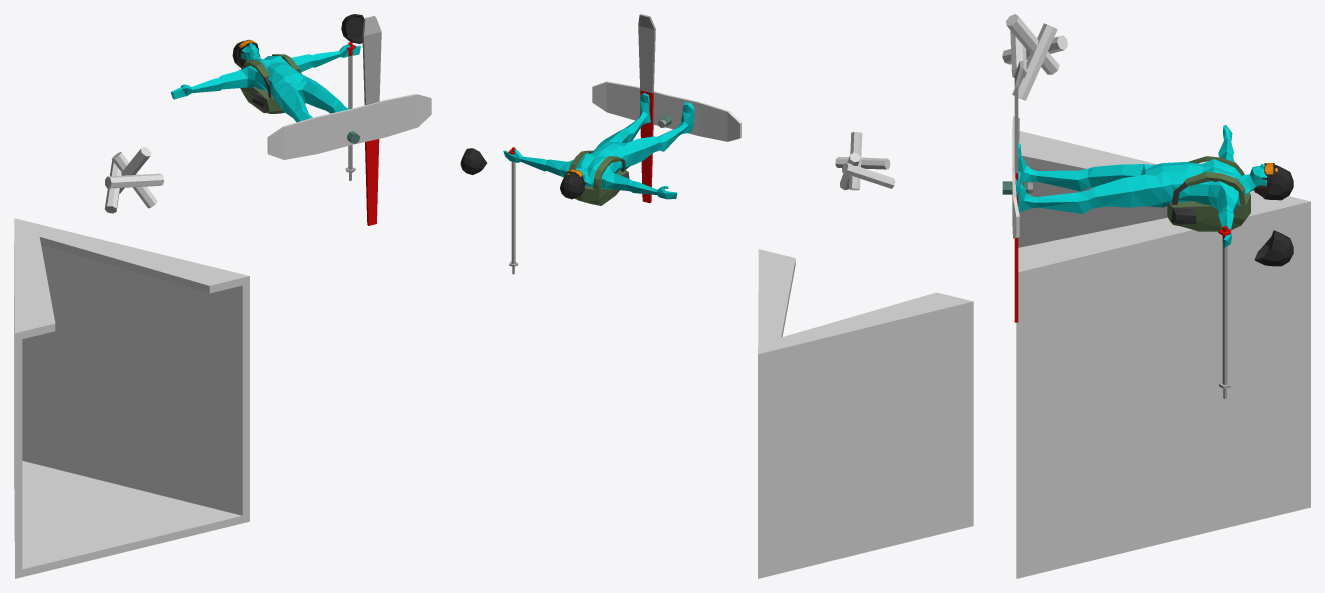
File: Character Props.fbx
3 views of the same model, side by side, from view 1: azimuth 30°, elevation 25°; view 2: azimuth 150°, elevation 25°; view 3: azimuth 270°, elevation 25° (orthographic). The views are drawn at different scales.
Parts seen in each view (by area): view 1: Tent 2, Snowboard, LowMan, Ski, Campfire, Backpack, Beanie, Ski Pole; view 2: Tent 2, LowMan, Snowboard, Ski, Campfire, Backpack; view 3: Tent 2, LowMan, Campfire, Backpack, Ski, Ski Pole, Beanie, Beanie 2, Snowboard.
Part boxes in pixels (bbox=[...]): Tent 2: bbox=[14, 218, 249, 578]; Snowboard: bbox=[267, 94, 431, 159]; LowMan: bbox=[170, 43, 360, 122]; Ski: bbox=[362, 16, 381, 225]; Campfire: bbox=[105, 146, 164, 213]; Backpack: bbox=[240, 54, 305, 113]; Beanie: bbox=[341, 14, 363, 43]; Ski Pole: bbox=[345, 42, 355, 180]; Tent 2: bbox=[758, 249, 973, 578]; LowMan: bbox=[503, 93, 694, 199]; Snowboard: bbox=[592, 81, 741, 141]; Ski: bbox=[638, 14, 655, 203]; Campfire: bbox=[835, 132, 895, 190]; Backpack: bbox=[568, 150, 629, 205]; Tent 2: bbox=[1016, 131, 1310, 578]; LowMan: bbox=[1016, 125, 1268, 247]; Campfire: bbox=[1002, 14, 1067, 100]; Backpack: bbox=[1167, 156, 1250, 231]; Ski: bbox=[1014, 61, 1023, 322]; Ski Pole: bbox=[1218, 226, 1230, 398]; Beanie: bbox=[1254, 230, 1293, 266]; Beanie 2: bbox=[1263, 164, 1293, 200]; Snowboard: bbox=[1012, 116, 1019, 238].
Bounding box in the file's own units: 418 × 415 × 197.
